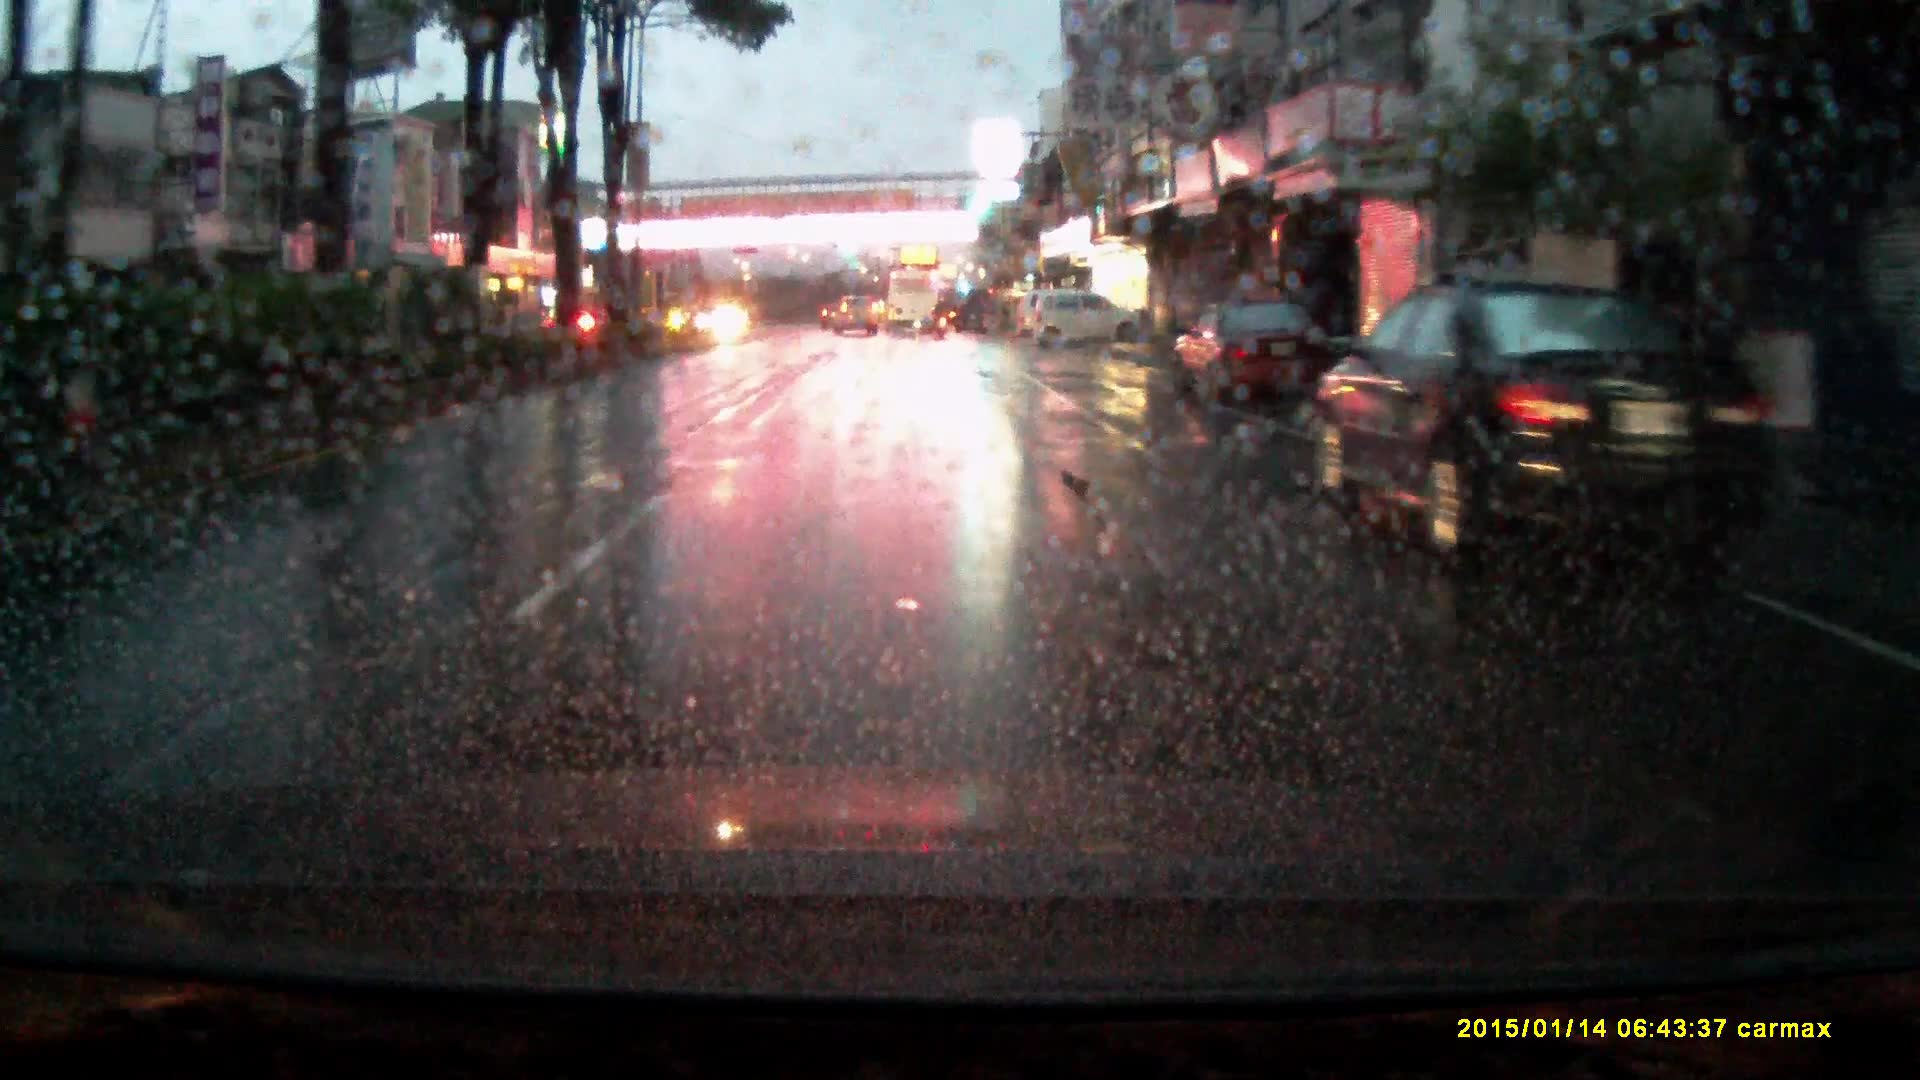vehicle: (1305, 284, 1758, 568), (1174, 305, 1346, 419), (1029, 291, 1145, 353), (884, 274, 939, 331), (833, 295, 880, 338)
